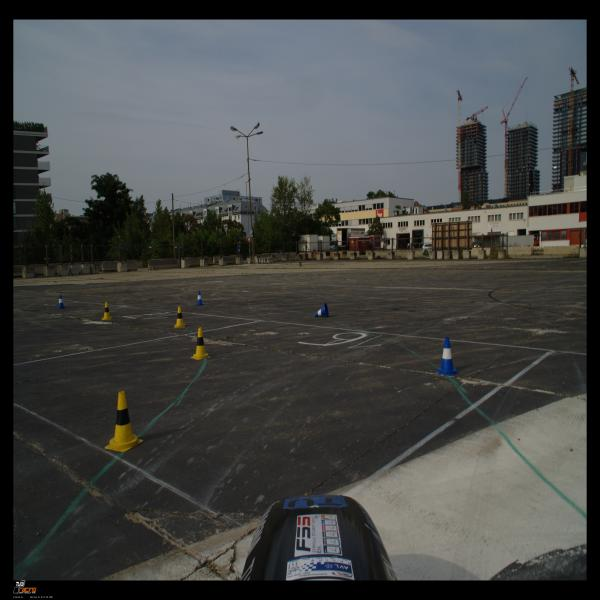blue_cone: (436, 337, 458, 376), (314, 303, 329, 317), (57, 294, 66, 308), (196, 291, 203, 306)
yellow_cone: (105, 391, 143, 452), (190, 327, 210, 360), (174, 306, 186, 328), (102, 302, 112, 320)
